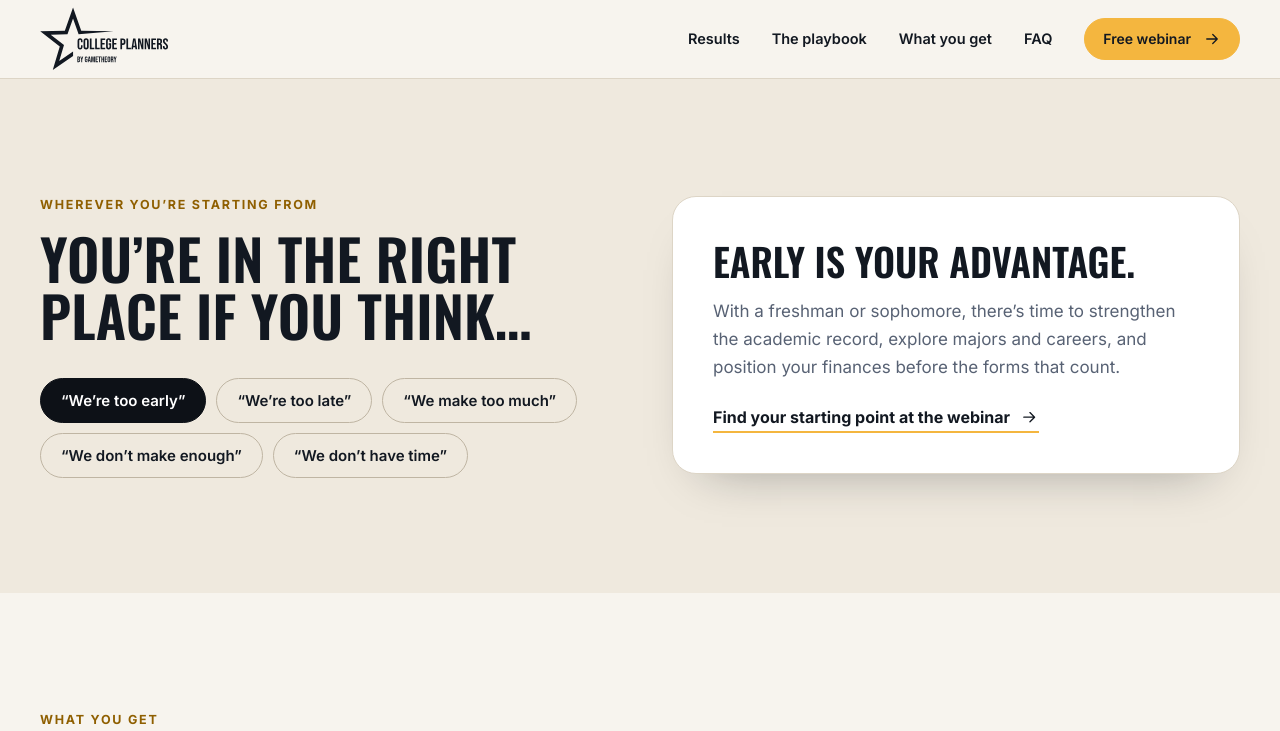
choosing a worry shows the matching answer and selected state
(page scrolled)
expect the heading "Early is your advantage." is shown: met, box [713,241,1199,281]
Click the button "We make too much".
click(480, 400)  # box [382,378,577,422]
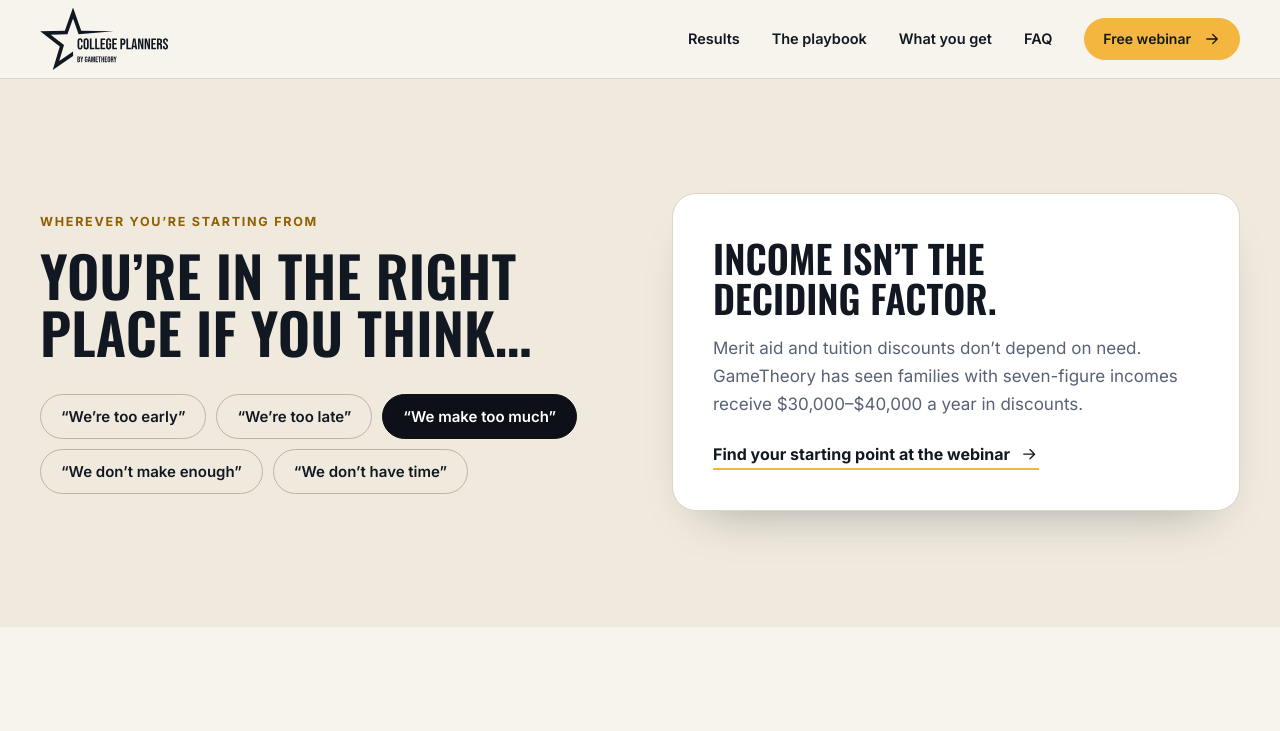
expect the heading "Income isn’t the deciding factor." is shown: met, box [713,229,997,326]
expect the heading "Early is your advantage." is gone: met
